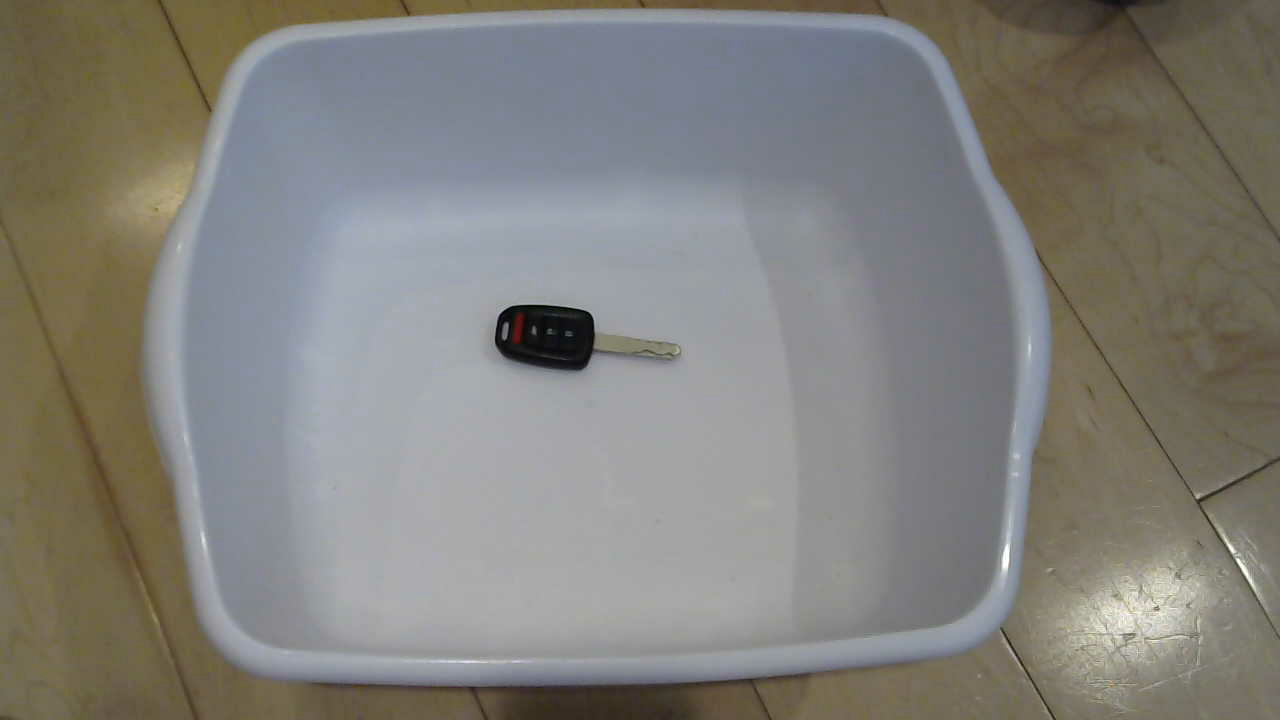key: (478, 301, 684, 390)
